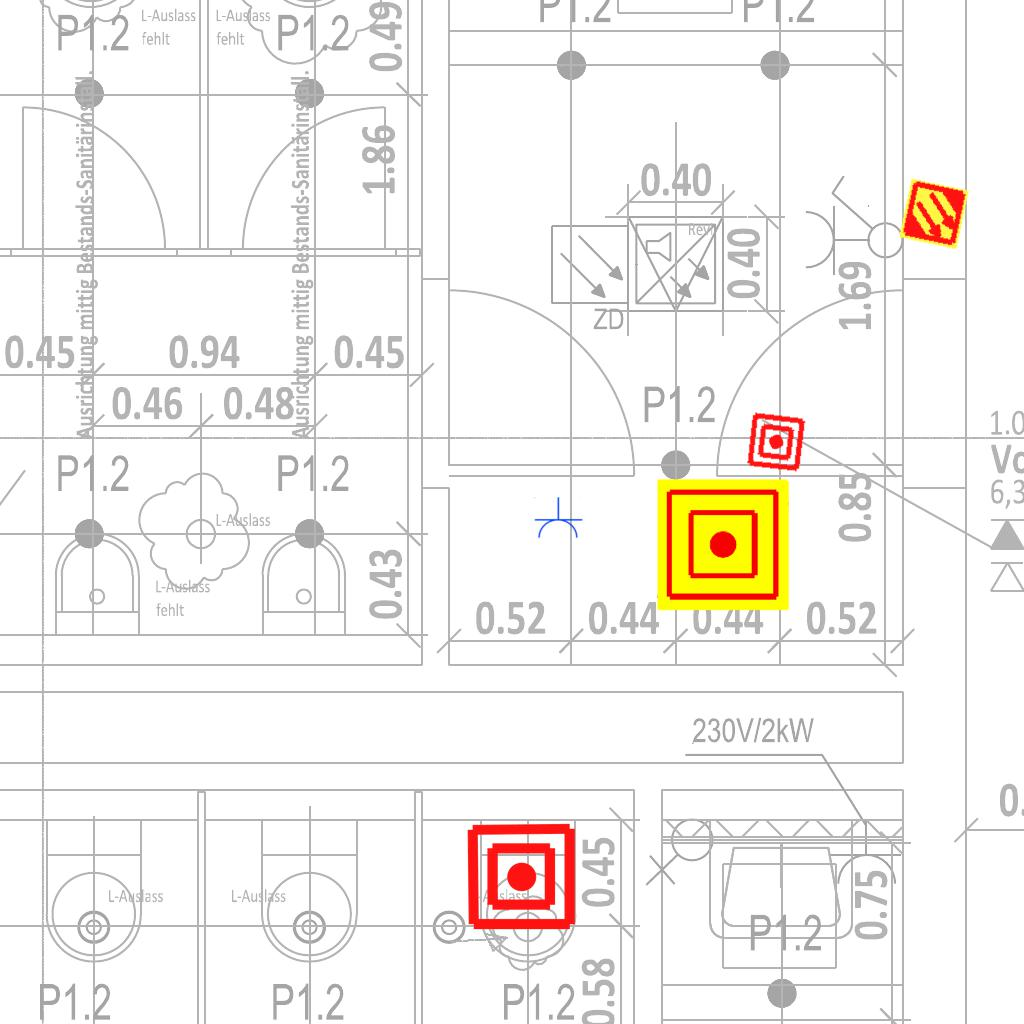ASR_Ansaugrauchmelder: (897, 177, 971, 251)
NAM-Nichtautomatischer_Melder: (657, 479, 789, 611), (465, 820, 578, 933), (744, 410, 808, 474)
Schukosteckdose_einfach: (533, 497, 583, 540)
